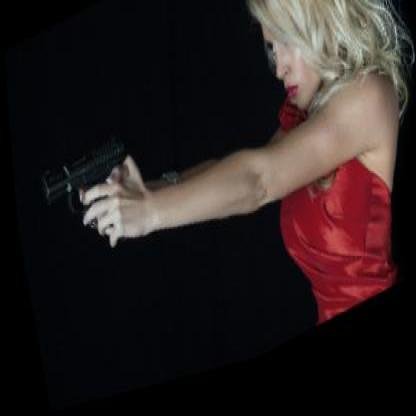pistol: (33, 128, 141, 280)
